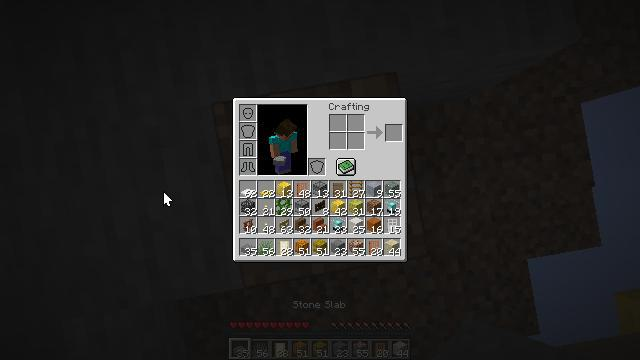cursor: (163, 191, 173, 207)
